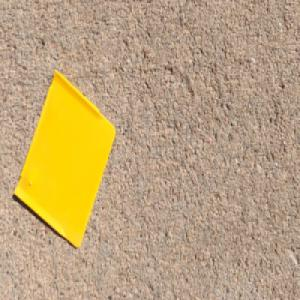PlasticPart: (11, 68, 116, 251)
